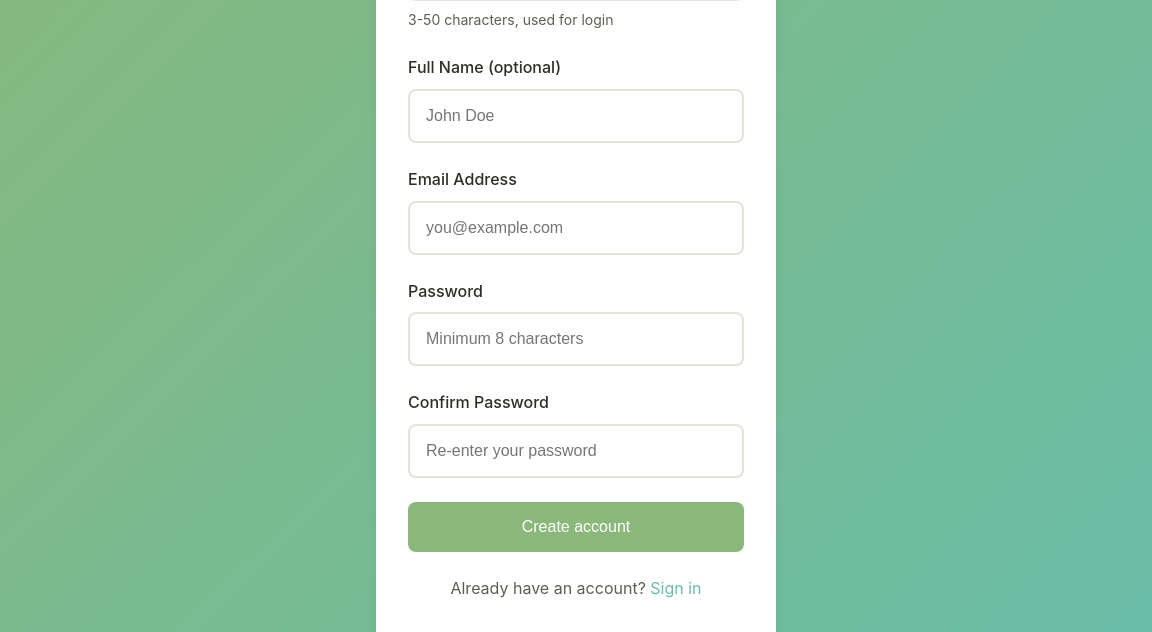
Test: Register Component › displays validation errors for empty required fields
(page scrolled)
// Try to submit empty form
Step 1. Click the button "Create account" → (576, 527), box [408, 502, 744, 552]
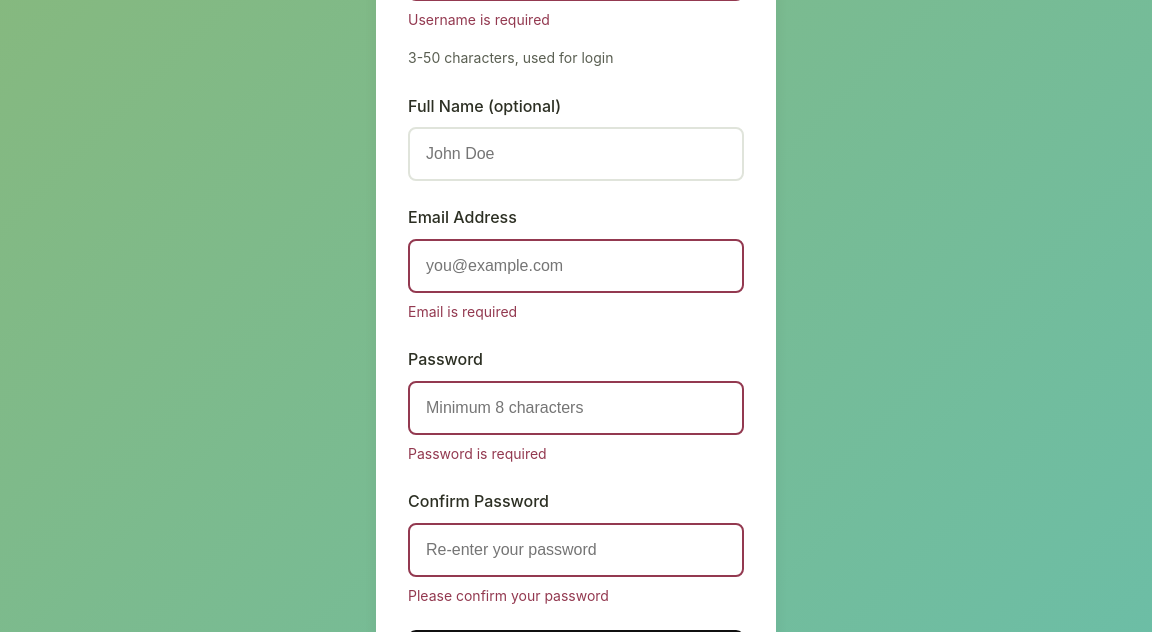
Result: the text "Username is required" is shown at [408, 11, 550, 28]
Result: the text "Email is required" is shown at [408, 303, 517, 320]
Result: the text "Password is required" is shown at [408, 445, 547, 462]
